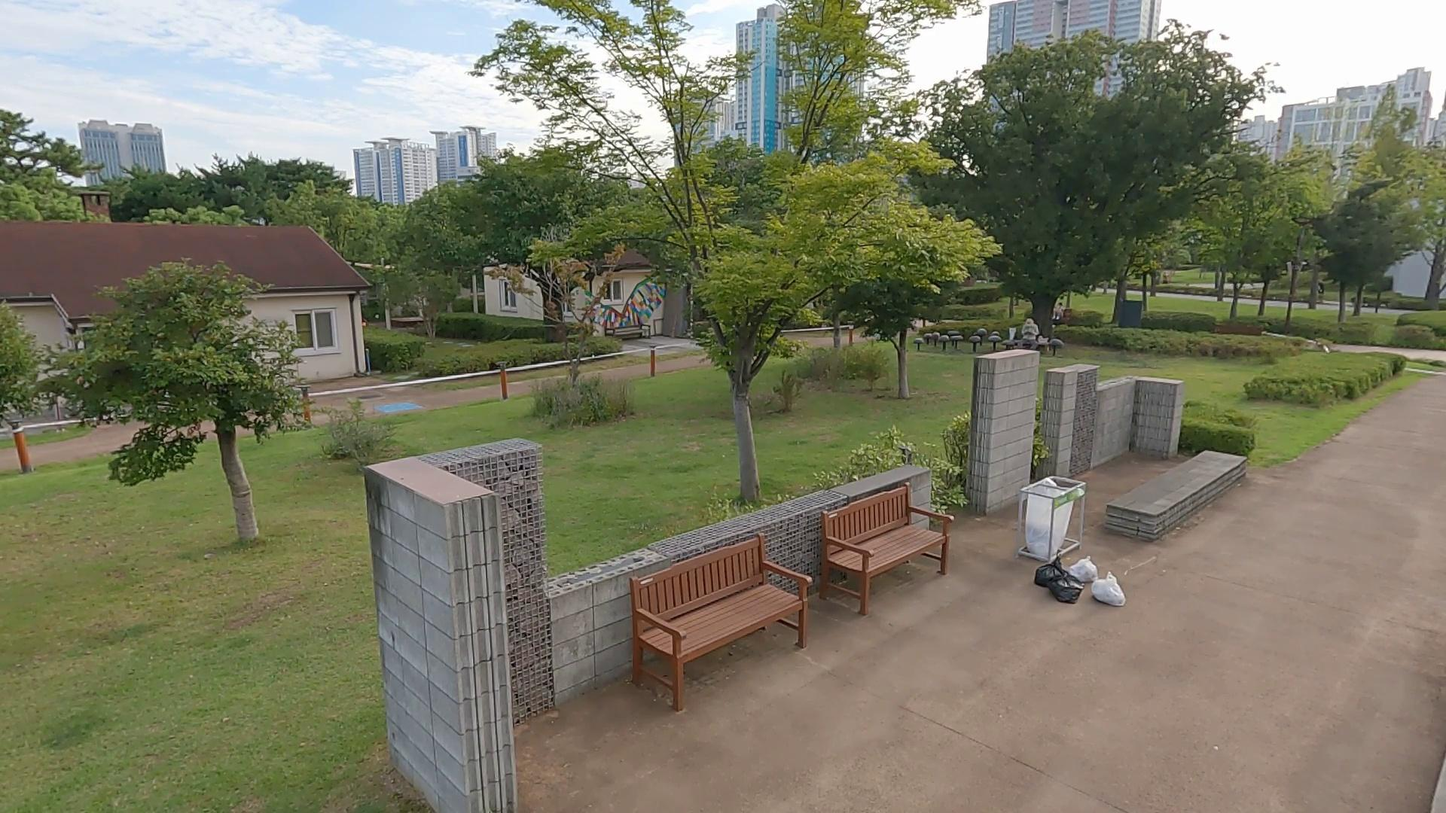trash: (1034, 550, 1078, 585), (1091, 572, 1129, 609), (1045, 574, 1086, 605), (1067, 555, 1101, 581)
